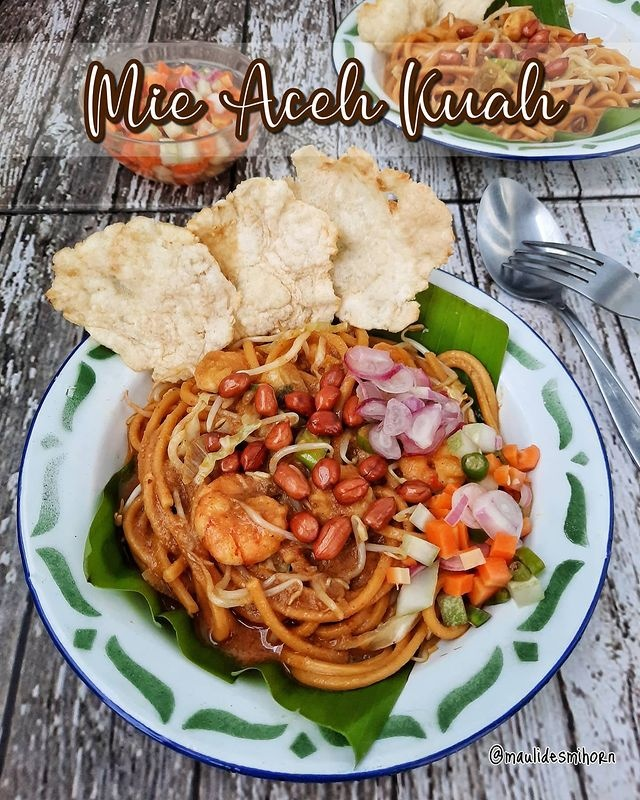mie_aceh: (119, 329, 502, 690)
